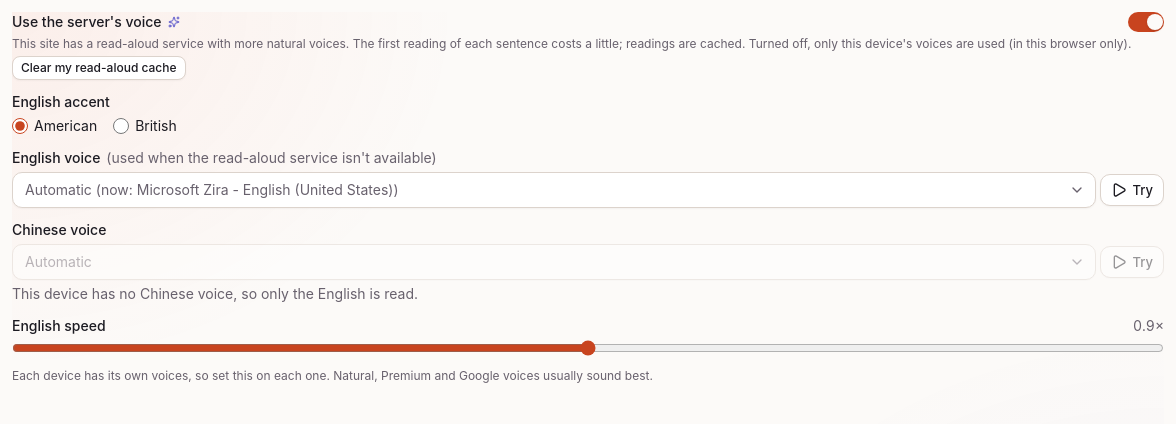
Scenario: SpeechSettings with a read-aloud service › clears the learner's own read-aloud audio after asking
Click the button "Clear my read-aloud cache". click: x=99, y=68
box: [12,56,186,80]
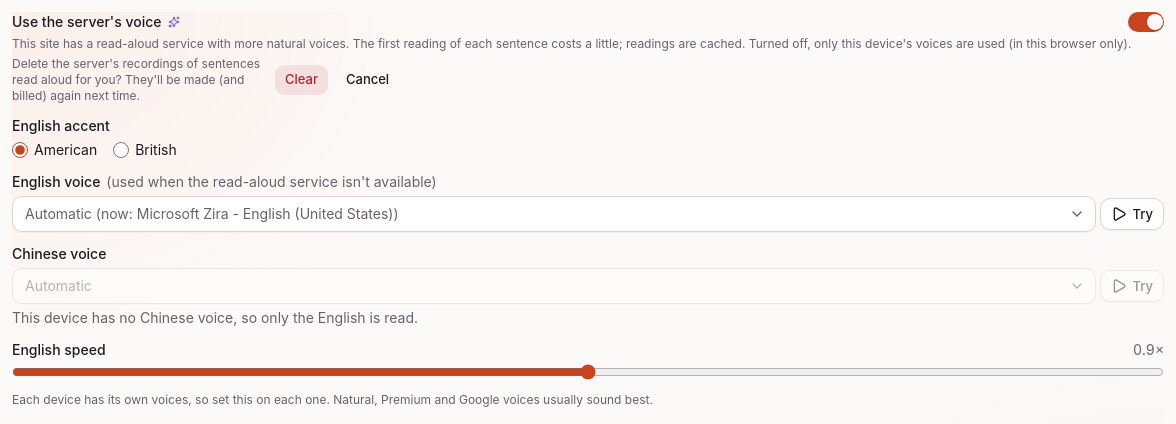
Check: the text "billed) again next time" is shown, box [12,56,260,103]
Click the button "Clear". click: x=302, y=80
box: [274,64,329,96]
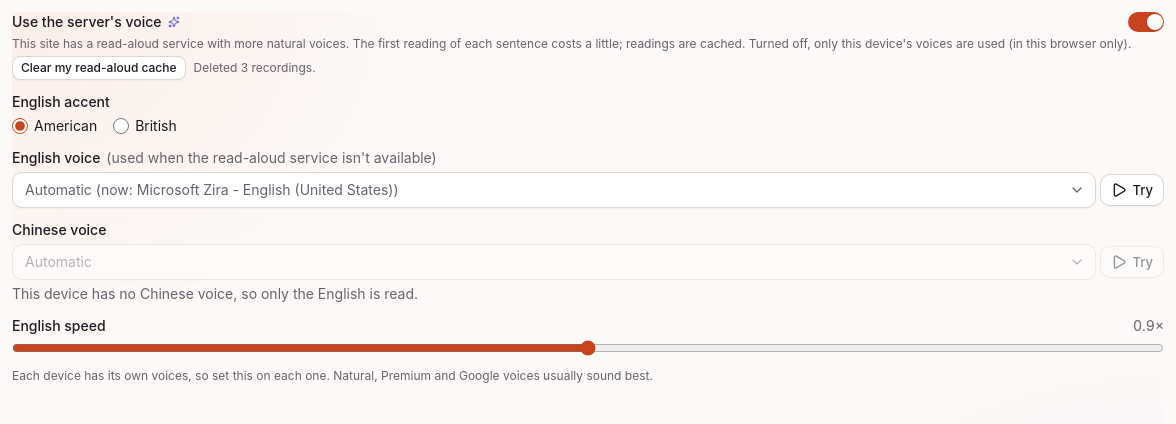
Check: the text "Deleted 3 recordings." is shown, box [194,60,316,76]
